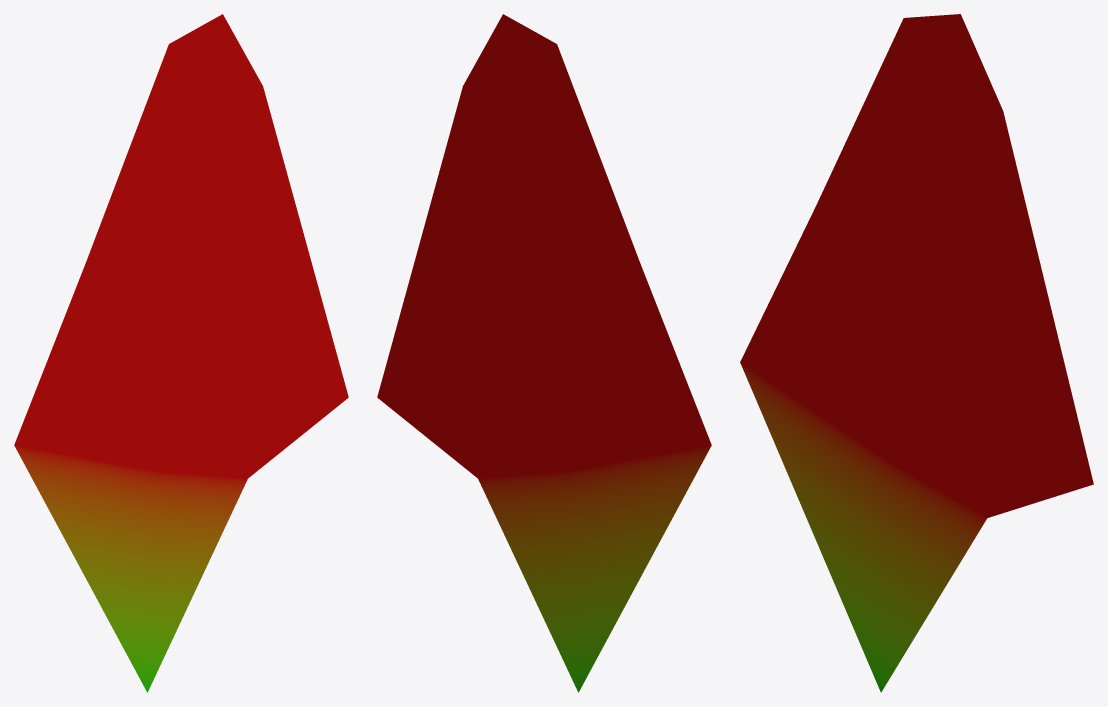
Rendered from Black Locust_LOD4_Var3.fbx.
The picture shows the model from 3 angles, left to right: view 1: azimuth 30°, elevation 25°; view 2: azimuth 150°, elevation 25°; view 3: azimuth 330°, elevation 25°; orthographic projection. The views are drawn at different scales.
Visible parts, largest first — view 1: _lmpb_Var3_LOD4; view 2: _lmpb_Var3_LOD4; view 3: _lmpb_Var3_LOD4.
Part boxes in pixels (box(x1,y1,x2,y2)): _lmpb_Var3_LOD4: box(14, 14, 348, 692); _lmpb_Var3_LOD4: box(377, 14, 711, 692); _lmpb_Var3_LOD4: box(740, 14, 1093, 692).
Size of the model in its own units: 26.54 by 50.06 by 4.26e-08.
